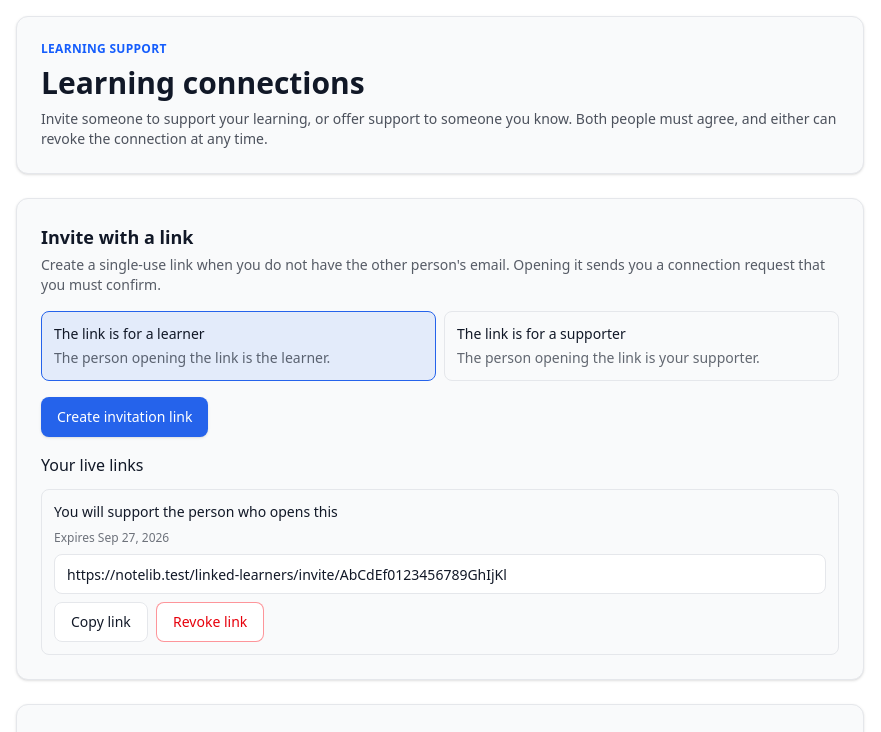
it: refetches live invitation links after revocation
Expected: the field showing "https://notelib.test/linked-learners/invite/AbCdEf0123456789GhIjKl" is shown, [54,554,826,594]
Click the button "Revoke link": (210,622) [156,602,264,642]
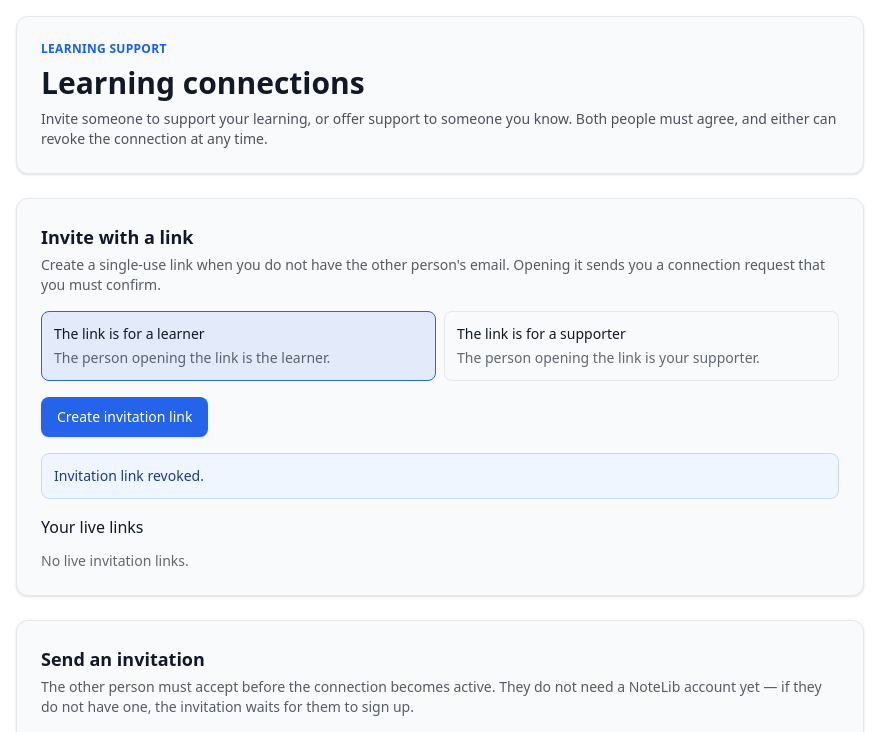
Expected: the field showing "https://notelib.test/linked-learners/invite/AbCdEf0123456789GhIjKl" is not shown
Expected: the text "Invitation link revoked." is shown, [41,453,839,499]
